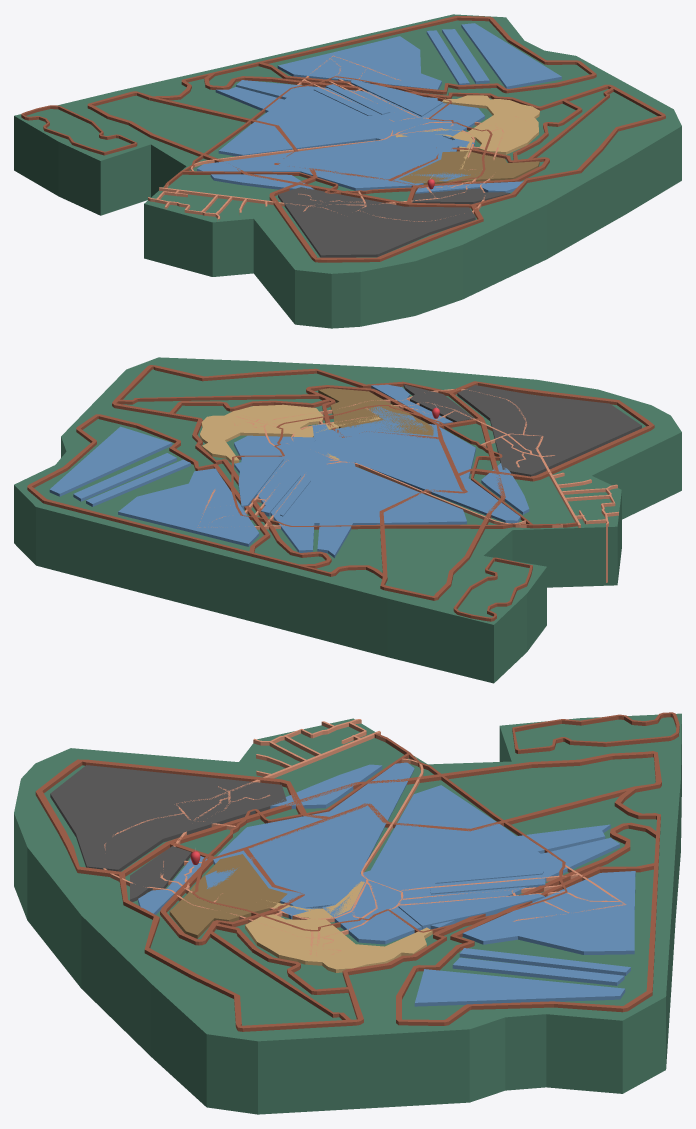
The model's file is MapZuiderbadV1.glb.
The picture shows the model from 3 angles, top to bottom: view 1: azimuth 30°, elevation 25°; view 2: azimuth 150°, elevation 25°; view 3: azimuth 270°, elevation 25°; orthographic projection. The views are drawn at different scales.
Visible parts, largest first — view 1: base, path, base.001, parking, water.007, water, water.001, water.008, beach, playground, water.004, walk (+15 smaller); view 2: base, path, parking, base.001, water.007, water, water.001, water.008, beach, water.004, playground, walk (+15 smaller); view 3: base, parking, path, water.007, water, water.001, base.001, water.008, beach, water.004, playground, base.002 (+17 smaller).
Part boxes in pixels (x1=…): base: x1=14, y1=14, x2=681, y2=328; path: x1=87, y1=15, x2=665, y2=208; base.001: x1=144, y1=116, x2=482, y2=276; parking: x1=278, y1=187, x2=475, y2=257; water.007: x1=197, y1=135, x2=470, y2=190; water: x1=236, y1=80, x2=484, y2=147; water.001: x1=277, y1=36, x2=441, y2=89; water.008: x1=218, y1=98, x2=381, y2=156; beach: x1=442, y1=95, x2=539, y2=154; playground: x1=399, y1=151, x2=539, y2=184; water.004: x1=461, y1=23, x2=561, y2=88; walk: x1=163, y1=76, x2=492, y2=194; base: x1=14, y1=357, x2=681, y2=683; path: x1=27, y1=365, x2=505, y2=600; parking: x1=457, y1=385, x2=641, y2=476; base.001: x1=225, y1=388, x2=621, y2=587; water.007: x1=314, y1=406, x2=520, y2=523; water: x1=234, y1=424, x2=355, y2=552; water.001: x1=118, y1=468, x2=259, y2=546; water.008: x1=314, y1=464, x2=466, y2=525; beach: x1=200, y1=404, x2=323, y2=463; water.004: x1=49, y1=426, x2=172, y2=496; playground: x1=318, y1=388, x2=433, y2=435; walk: x1=231, y1=405, x2=577, y2=529; base: x1=14, y1=713, x2=681, y2=1114; parking: x1=50, y1=765, x2=286, y2=871; path: x1=119, y1=751, x2=661, y2=1031; water.007: x1=205, y1=762, x2=414, y2=908; water: x1=281, y1=837, x2=619, y2=944; water.001: x1=462, y1=871, x2=635, y2=954; base.001: x1=101, y1=718, x2=575, y2=946; water.008: x1=368, y1=785, x2=540, y2=877; beach: x1=245, y1=914, x2=432, y2=972; water.004: x1=414, y1=969, x2=625, y2=1006; playground: x1=169, y1=854, x2=287, y2=938; base.002: x1=124, y1=718, x2=505, y2=945.
Bounding box in the file's own units: 19.19 × 2.57 × 16.53.
